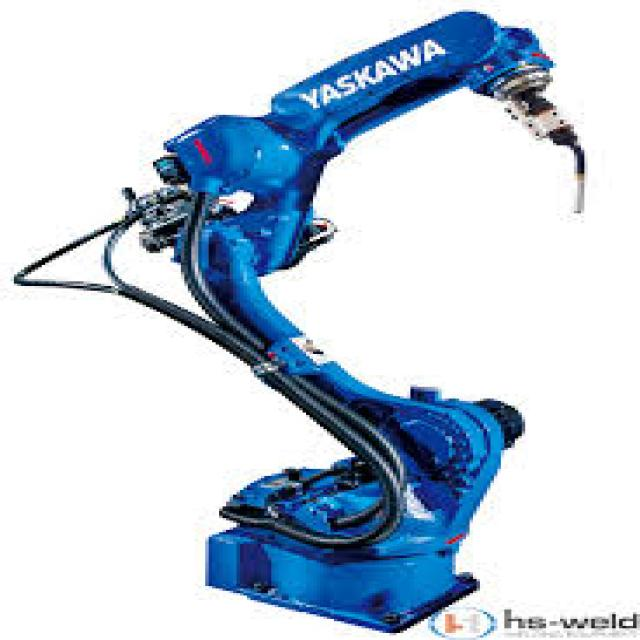Robotic-arm: (0, 8, 594, 630)
